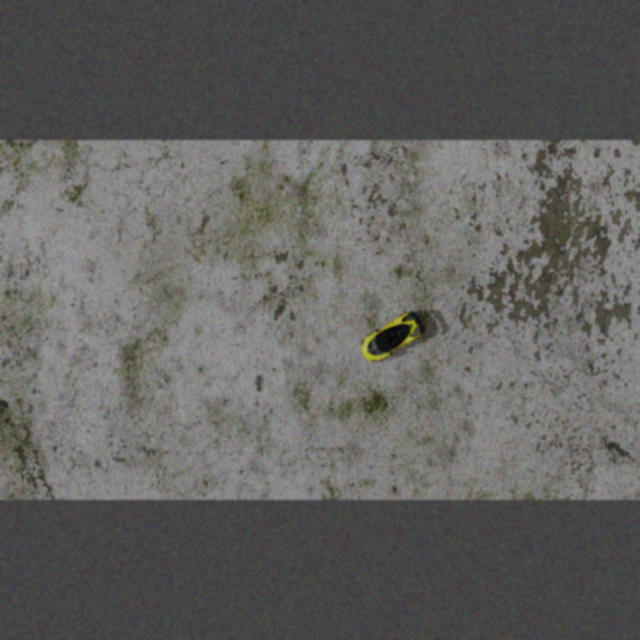car: (355, 307, 430, 369)
